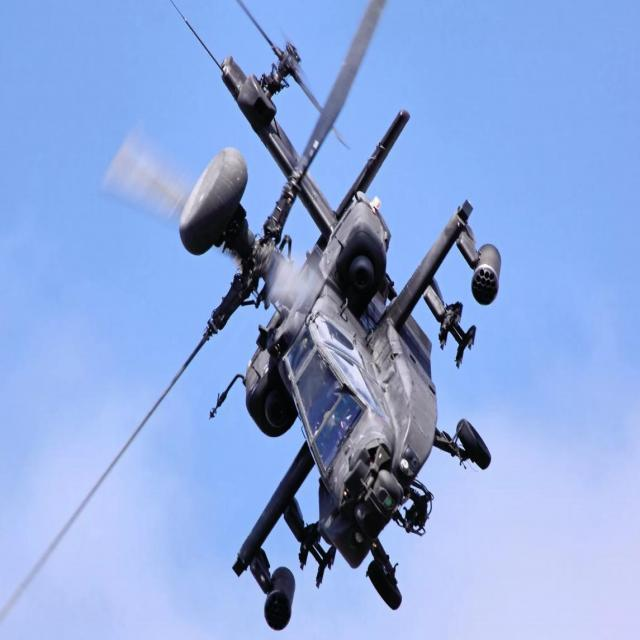MIL_HELO: (3, 0, 533, 640)
